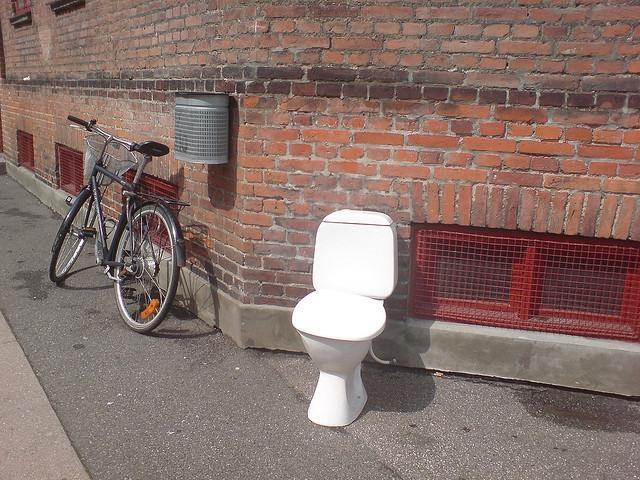bicycle: (47, 106, 186, 332)
